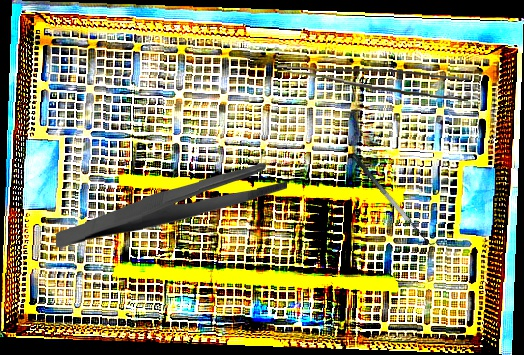Dressing Forceps: (54, 161, 288, 250)
Spatula Surgical: (349, 146, 440, 251)
Tissue Forceps: (276, 65, 469, 101)
